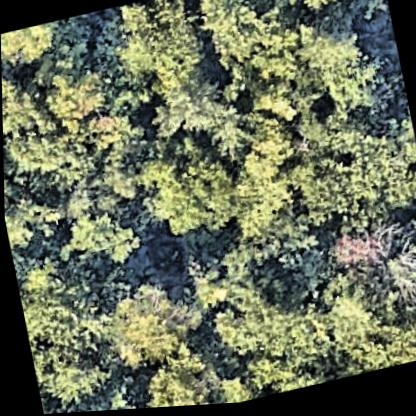tree-top: (1, 45, 126, 188), (12, 247, 121, 408), (286, 108, 415, 239), (137, 130, 244, 258), (289, 8, 391, 131), (99, 0, 218, 100), (97, 265, 198, 379), (142, 67, 250, 172), (216, 125, 309, 246), (220, 242, 304, 366), (198, 0, 293, 85), (132, 342, 249, 410), (50, 197, 142, 280), (344, 222, 416, 325), (341, 314, 416, 379), (0, 19, 72, 73), (277, 0, 386, 22)
